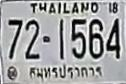1: (58, 18, 64, 58)
2: (24, 19, 40, 58)
4: (106, 18, 119, 58)
5: (71, 18, 85, 58)
6: (88, 18, 103, 58)
7: (8, 19, 22, 58)
SPK: (27, 63, 104, 82)
